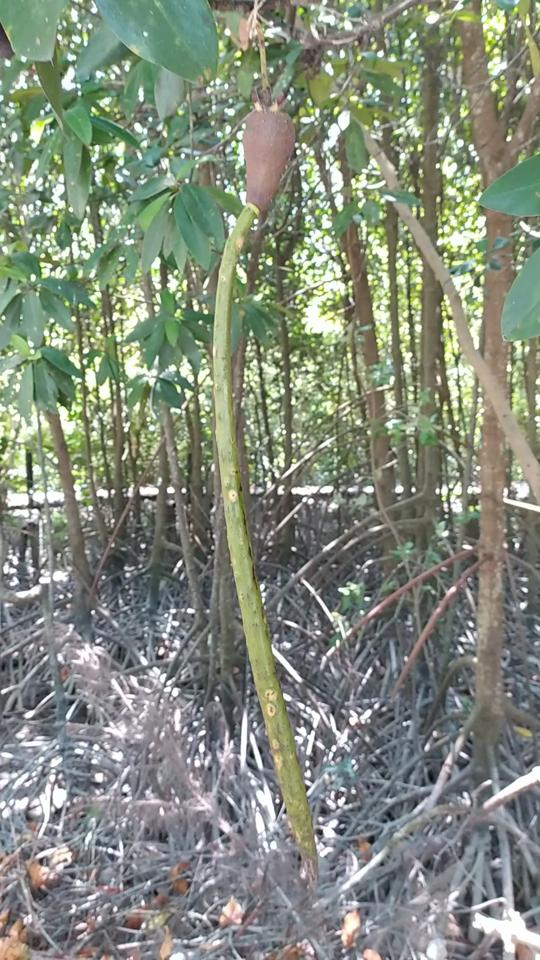setengah matang: (201, 89, 342, 899)
